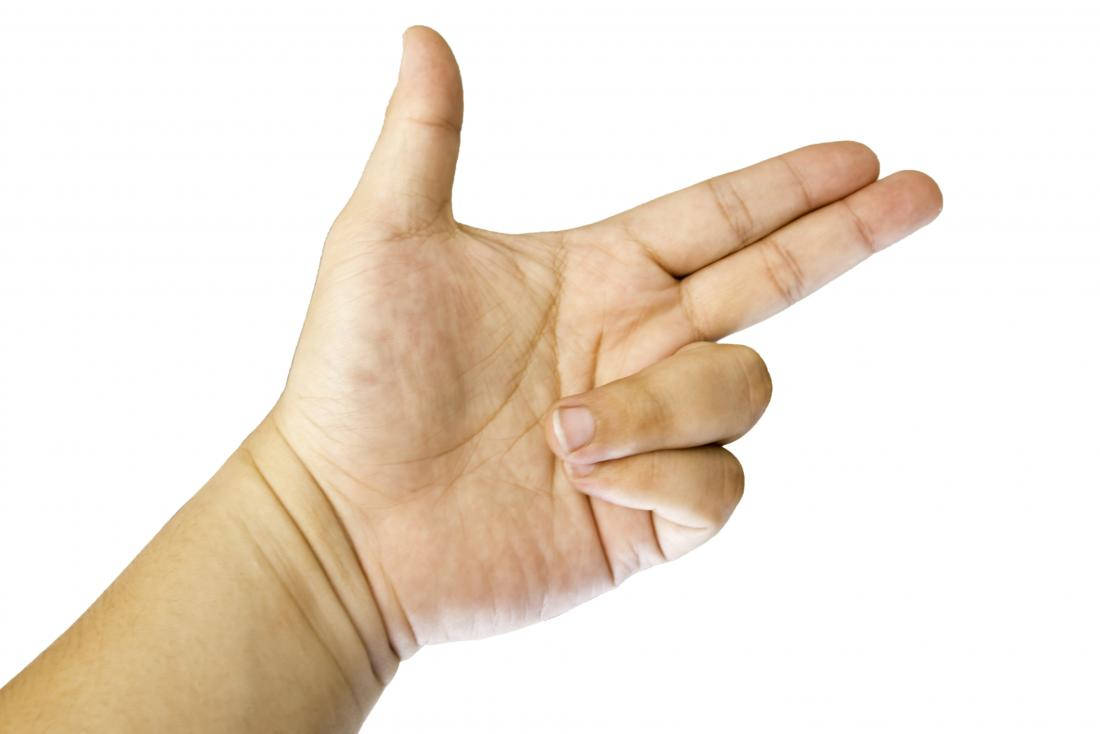finger: (671, 174, 959, 339), (605, 131, 880, 286), (545, 343, 803, 462), (562, 450, 748, 535)
